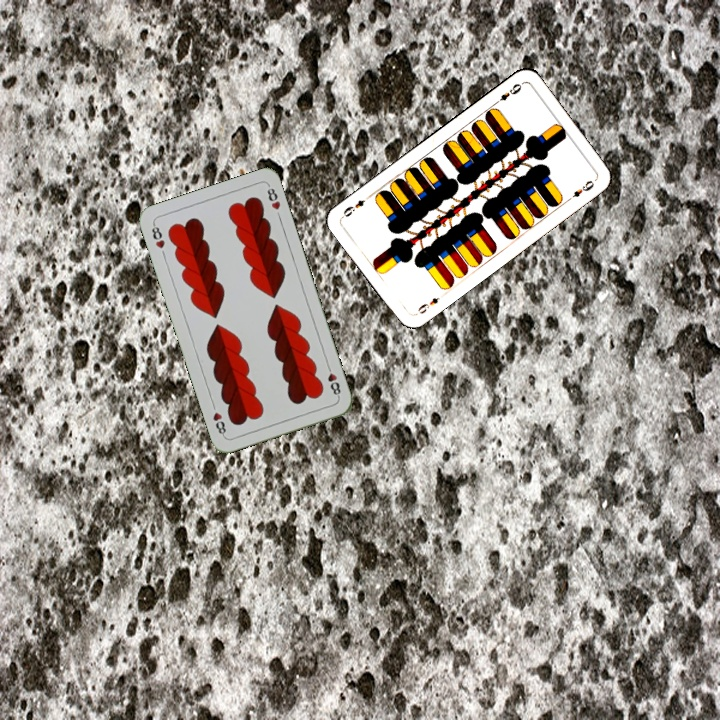E9: (490, 79, 524, 107), (411, 293, 442, 318)
H8: (323, 361, 343, 400), (148, 220, 167, 251)
